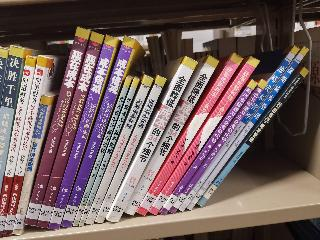book-spine: (176, 45, 300, 214), (186, 46, 309, 212), (146, 55, 260, 216), (136, 52, 243, 217), (196, 67, 310, 207), (124, 56, 220, 217), (59, 34, 137, 230), (107, 57, 196, 224), (45, 34, 119, 233), (19, 26, 92, 227), (32, 31, 104, 229), (167, 78, 269, 215), (157, 79, 258, 217), (81, 75, 154, 228), (94, 76, 167, 225), (68, 75, 133, 228), (75, 78, 140, 227), (3, 56, 48, 239), (0, 55, 38, 239), (11, 95, 52, 237), (0, 45, 26, 192)
